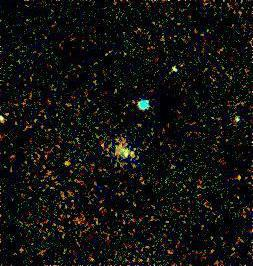star: (55, 149, 85, 179)
